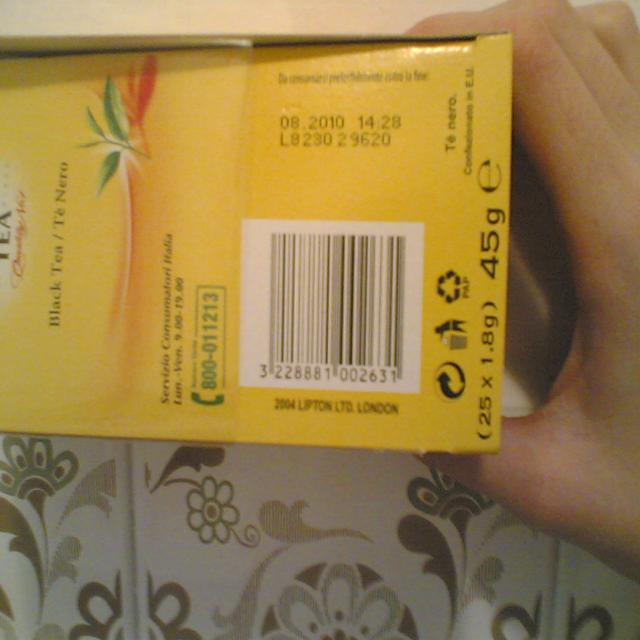barcode: (261, 241, 407, 385)
